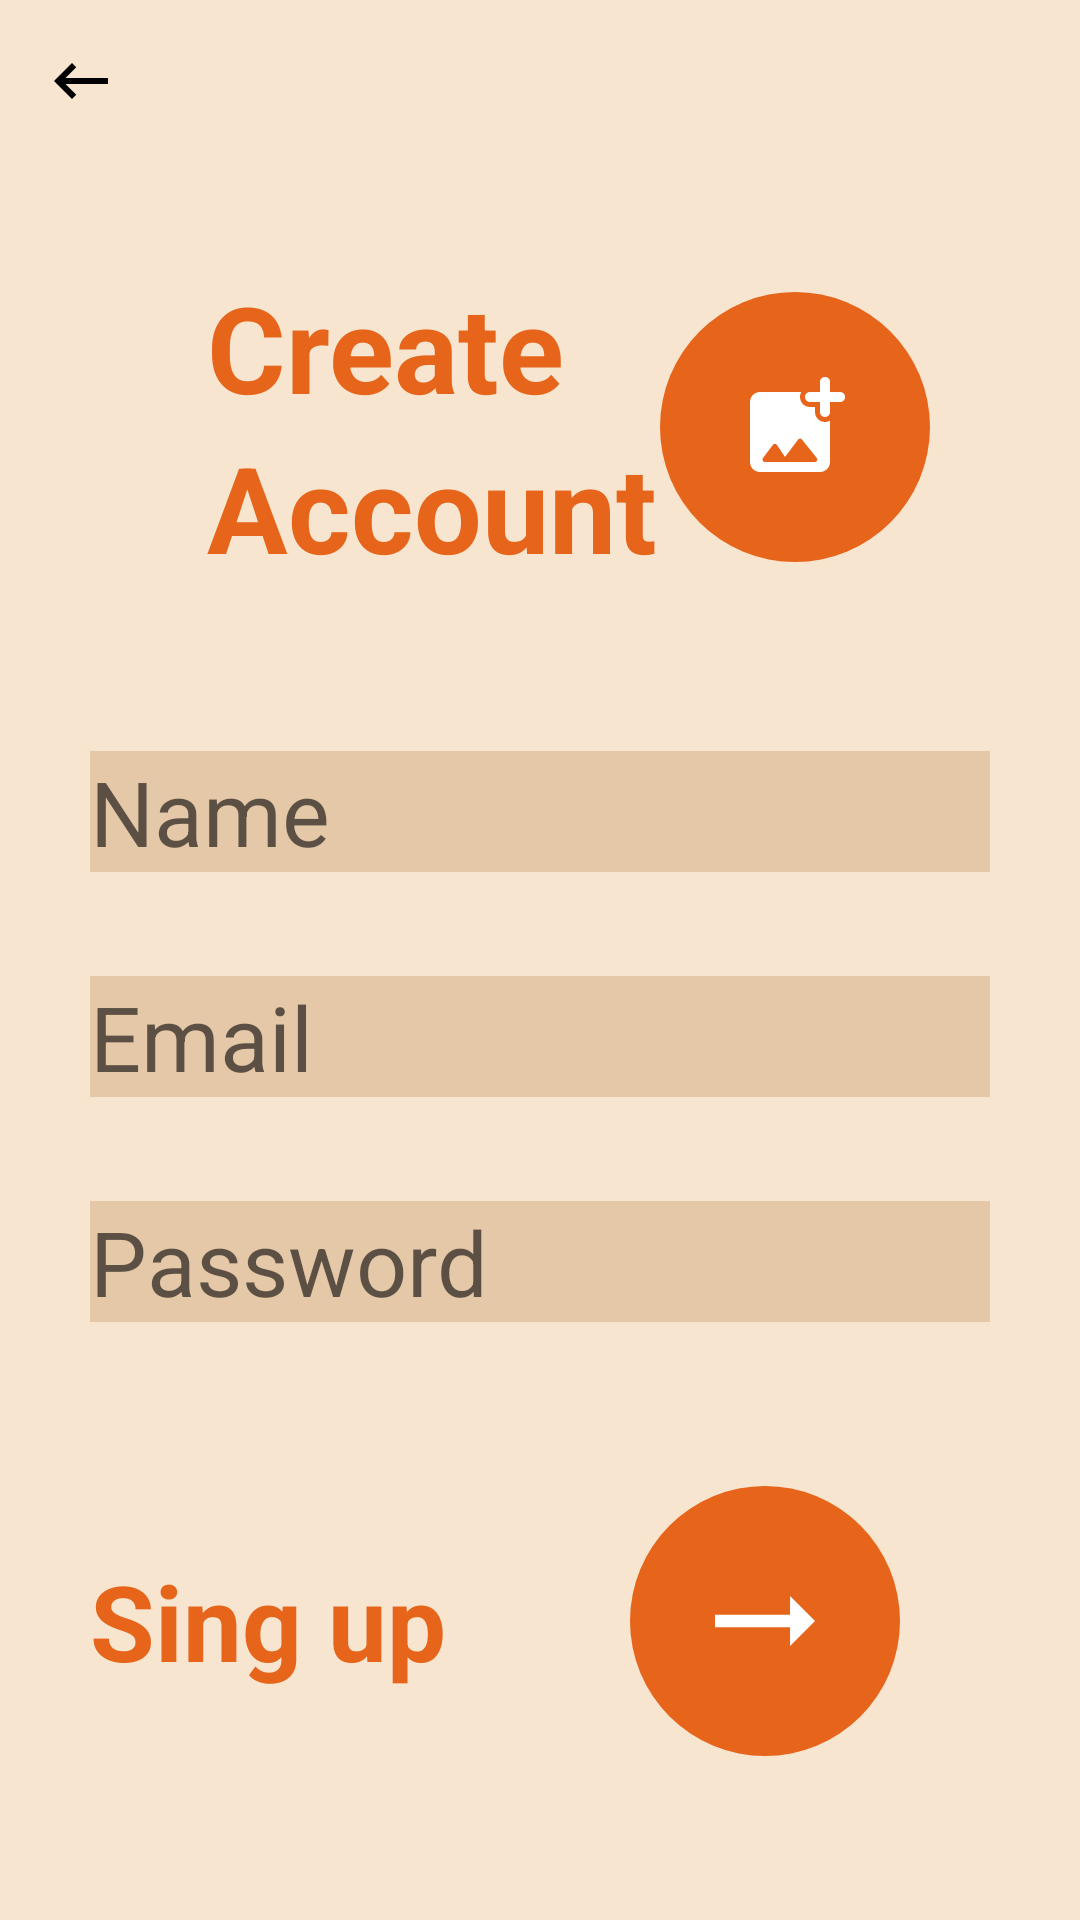

Icon bounding boxes for this 1080x1920 phone screenshot, format {"x1": x1, "y1": y1, "x2": x2, "y2": y2}:
arrow right: {"x1": 630, "y1": 1486, "x2": 900, "y2": 1756}
keyboard backspace: {"x1": 54, "y1": 63, "x2": 108, "y2": 99}
radd photo: {"x1": 660, "y1": 292, "x2": 930, "y2": 562}
